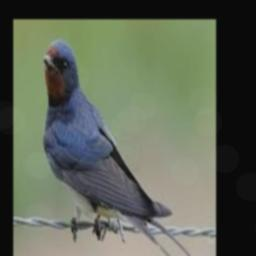Swallow: (42, 39, 202, 256)
